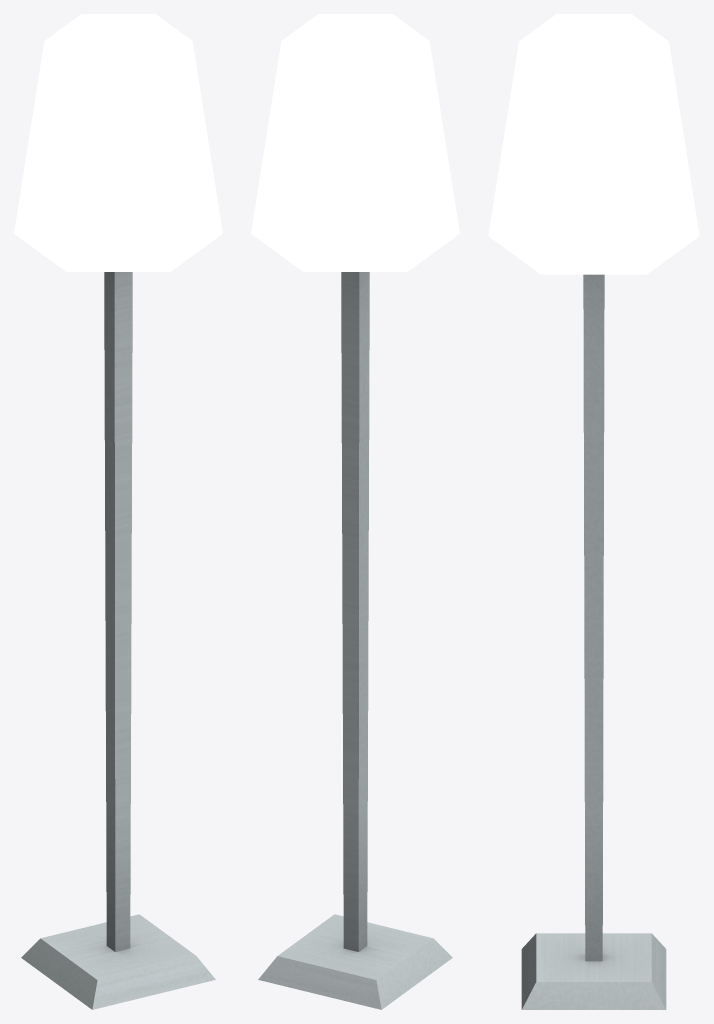
The model's file is lamp.glb.
3 views of the same model, side by side, from view 1: azimuth 30°, elevation 25°; view 2: azimuth 150°, elevation 25°; view 3: azimuth 270°, elevation 25° (orthographic).
Visible parts, largest first — view 1: lamp; view 2: lamp; view 3: lamp.
Part boxes in pixels (x1,y1,x2,y2): lamp: [14, 14, 222, 1009]; lamp: [251, 14, 459, 1009]; lamp: [488, 14, 699, 1009].
Size of the model in its own units: 0.3041 by 1.72 by 0.3511.
2 materials, 2 textured.
